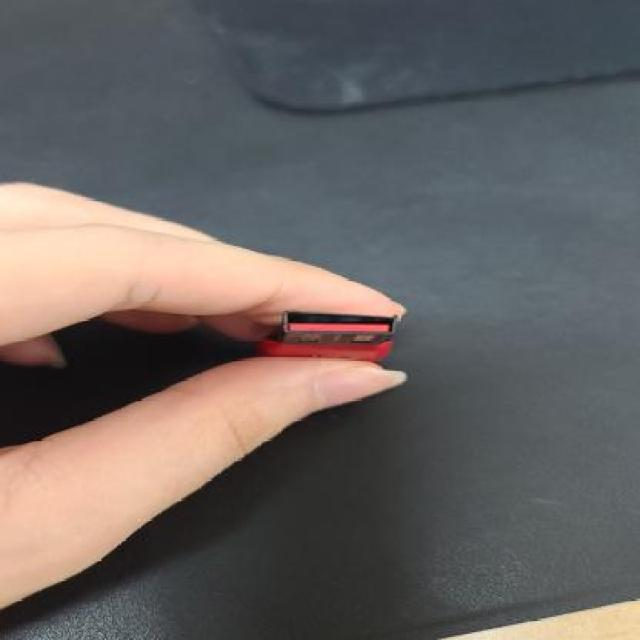Flashdisk: (256, 308, 398, 362)
